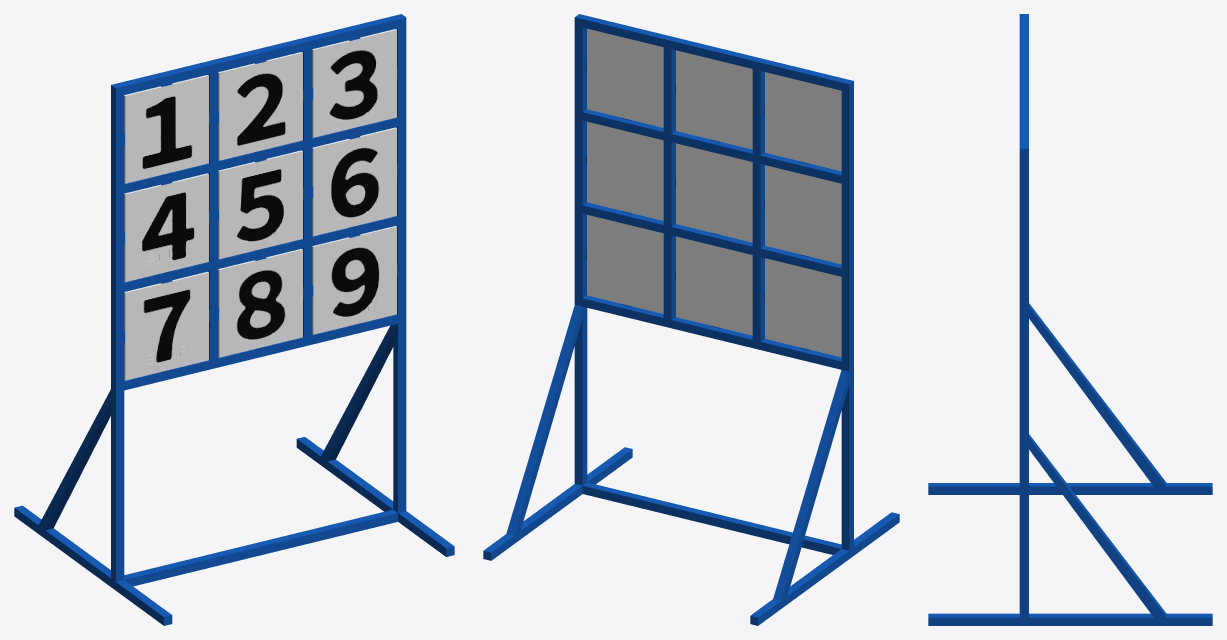
File: 3DLP_StrikeOut_F.fbx
The picture shows the model from 3 angles, left to right: view 1: azimuth 30°, elevation 25°; view 2: azimuth 150°, elevation 25°; view 3: azimuth 270°, elevation 25°; orthographic projection. The views are drawn at different scales.
Visible parts, largest first — view 1: Frame, Panel9, Panel5, Panel7, Panel1, Panel6, Panel3, Panel2, Panel8, Panel4; view 2: Frame, Panel1, Panel4, Panel8, Panel3, Panel2, Panel9, Panel7, Panel5, Panel6; view 3: Frame.
Boxes of the visible parts, x1,y1,x2,y2 form: Frame: [14, 14, 454, 625]; Panel9: [312, 226, 396, 334]; Panel5: [218, 150, 302, 259]; Panel7: [124, 271, 208, 380]; Panel1: [124, 75, 208, 183]; Panel6: [312, 127, 396, 236]; Panel3: [312, 29, 396, 137]; Panel2: [218, 52, 302, 160]; Panel8: [218, 249, 302, 357]; Panel4: [124, 173, 208, 282]; Frame: [483, 14, 899, 625]; Panel1: [765, 72, 841, 171]; Panel4: [765, 165, 841, 264]; Panel8: [676, 236, 752, 335]; Panel3: [587, 28, 663, 127]; Panel2: [676, 50, 752, 149]; Panel9: [587, 214, 663, 313]; Panel7: [765, 258, 841, 357]; Panel5: [676, 143, 752, 242]; Panel6: [587, 121, 663, 220]; Frame: [928, 14, 1212, 625].
Size of the model in its own units: 69.5 by 115 by 62.02.
